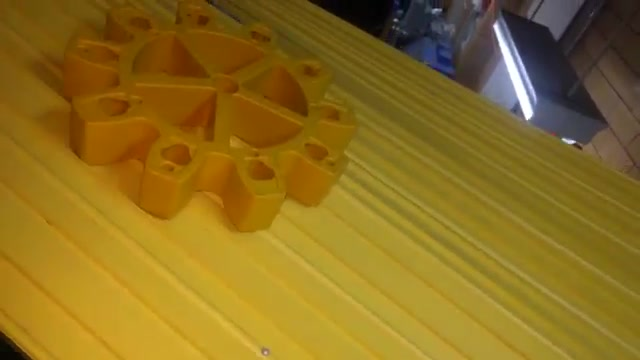gear: (61, 1, 361, 239)
